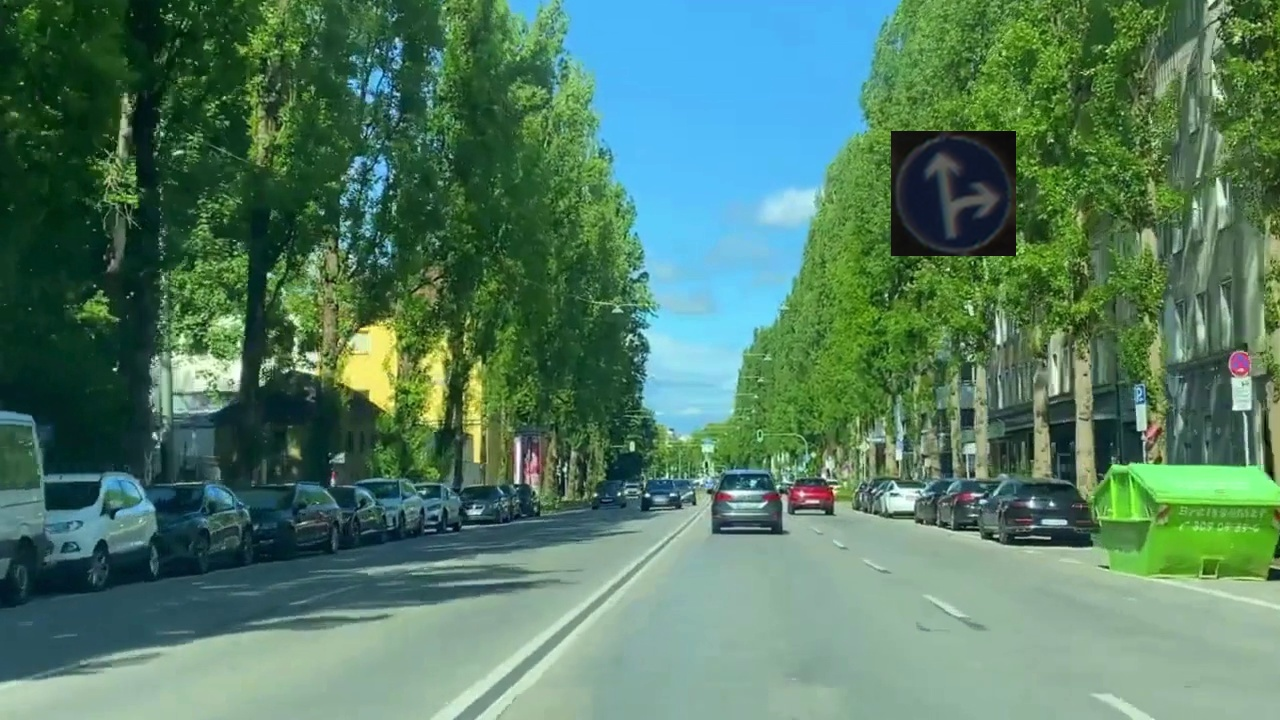Straight/right: (891, 131, 1016, 256)
